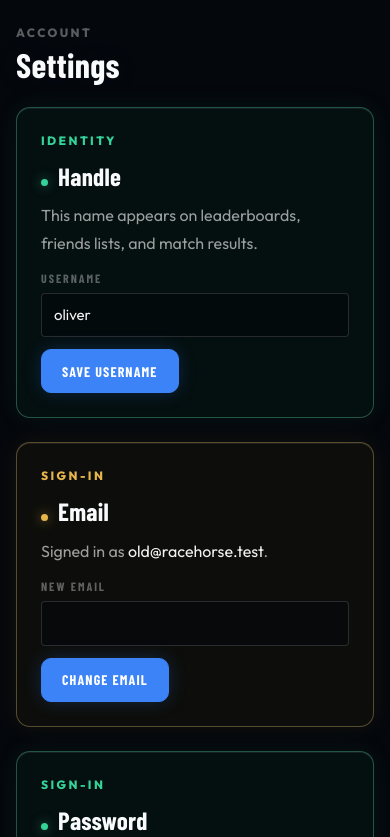
it: SettingsScreen — email › surfaces a rejected address
Type "old@racehorse.test" into the field labelled "New email".
click(195, 623); type("old@racehorse.test")  # box [41,601,349,646]
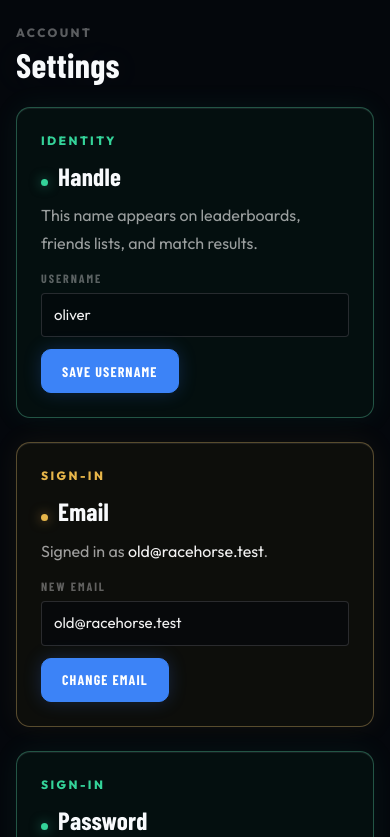
Click the button "Change email".
click(105, 680)  # box [41,658,169,702]
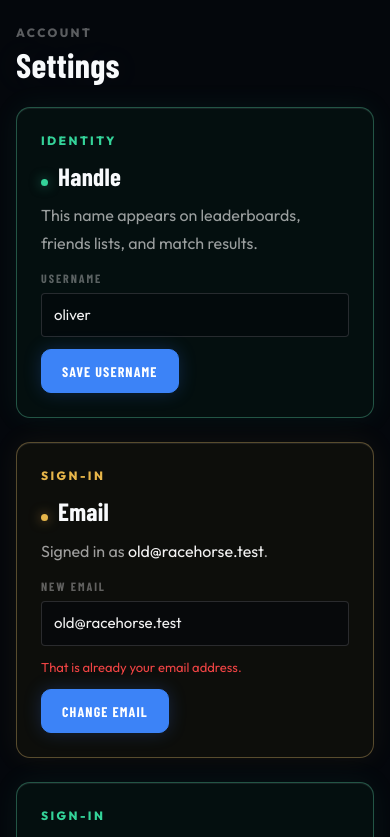
Check: the text "That is already your email address." is shown, box [41,658,242,677]
